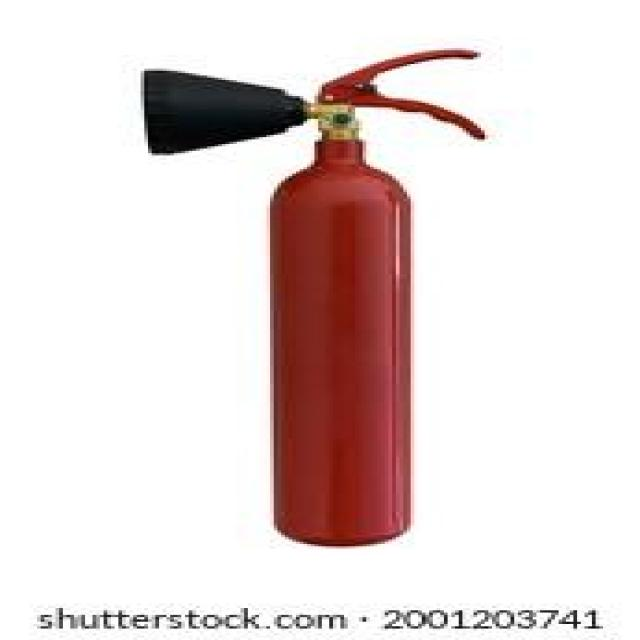fire_extinguisher: (132, 42, 490, 550)
